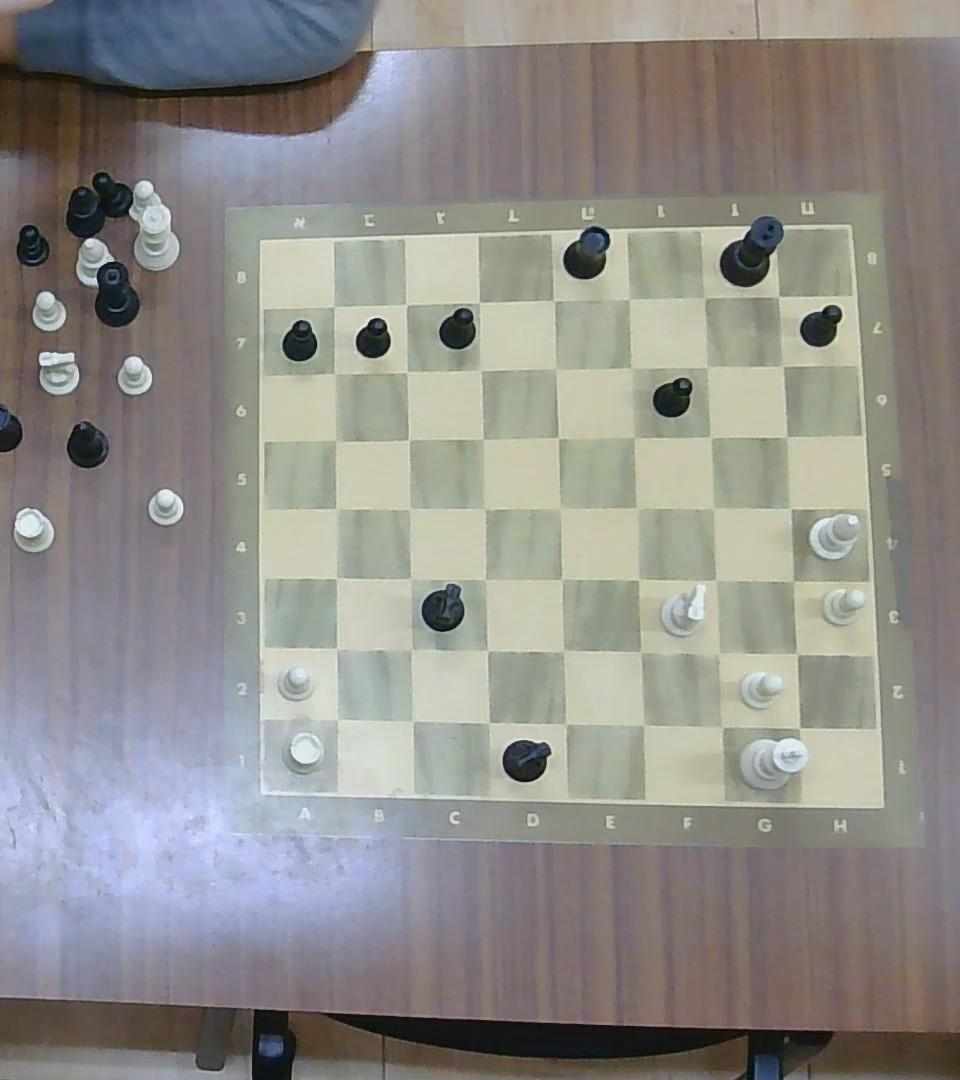xcorner: (703, 708, 737, 742), (781, 710, 815, 743), (701, 636, 735, 669), (626, 707, 658, 740), (781, 637, 812, 669), (320, 703, 352, 734), (472, 706, 503, 737), (548, 707, 580, 737), (625, 636, 656, 666), (622, 563, 652, 594), (396, 705, 427, 735), (548, 636, 578, 666), (700, 565, 730, 595), (698, 493, 728, 522), (472, 634, 501, 664), (776, 493, 806, 522), (548, 563, 576, 594), (776, 566, 807, 594), (471, 493, 500, 522), (622, 493, 651, 522), (397, 635, 426, 664), (321, 562, 350, 591), (321, 633, 350, 662), (471, 564, 500, 593), (619, 422, 648, 451), (545, 422, 573, 451), (396, 493, 424, 522), (323, 495, 351, 523), (469, 424, 497, 452), (320, 291, 348, 319), (617, 352, 645, 380), (546, 493, 573, 522), (542, 354, 570, 381), (396, 565, 424, 592), (615, 285, 643, 312), (693, 352, 721, 379), (467, 354, 493, 381), (692, 285, 719, 311), (395, 426, 423, 451), (769, 353, 797, 378), (323, 427, 349, 453), (697, 422, 723, 448), (773, 422, 799, 448), (393, 358, 420, 383), (393, 291, 419, 316), (540, 286, 566, 311), (323, 360, 348, 385), (466, 289, 491, 314), (767, 283, 791, 307)
